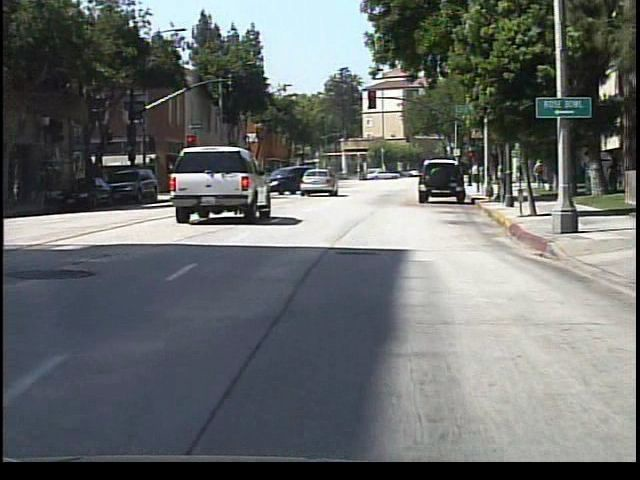person: (316, 159, 336, 196), (533, 157, 547, 193), (473, 161, 479, 186)
